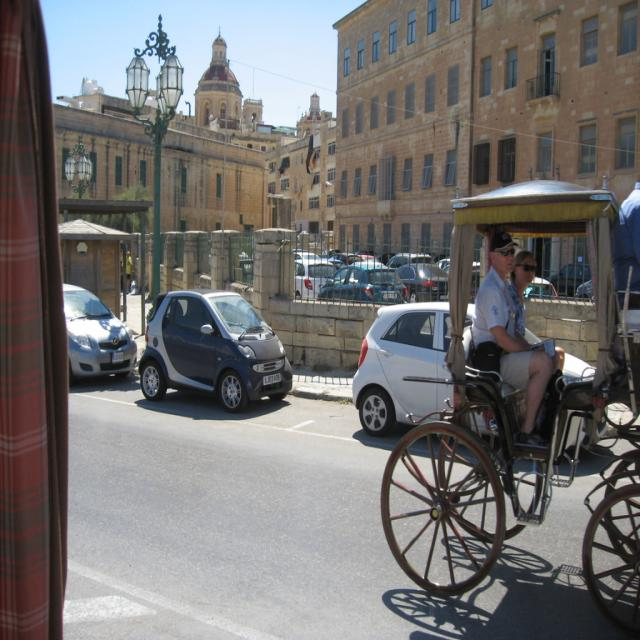other: (352, 298, 598, 434), (140, 292, 292, 409), (292, 249, 480, 301), (56, 288, 133, 392), (523, 276, 556, 299)
